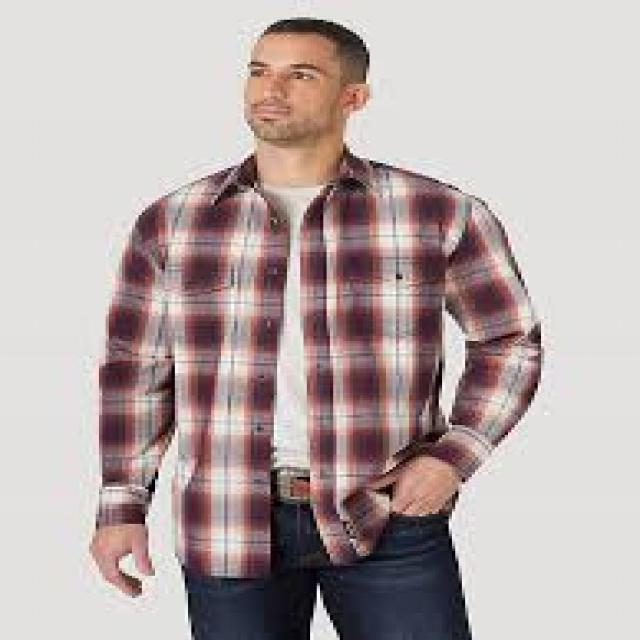plaid: (26, 154, 578, 570)
